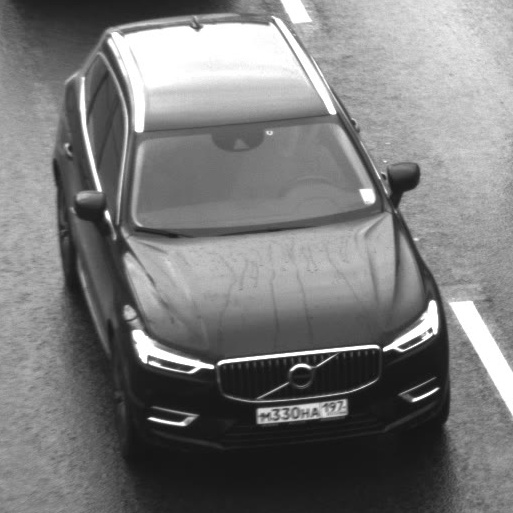plate: (244, 387, 357, 431)
